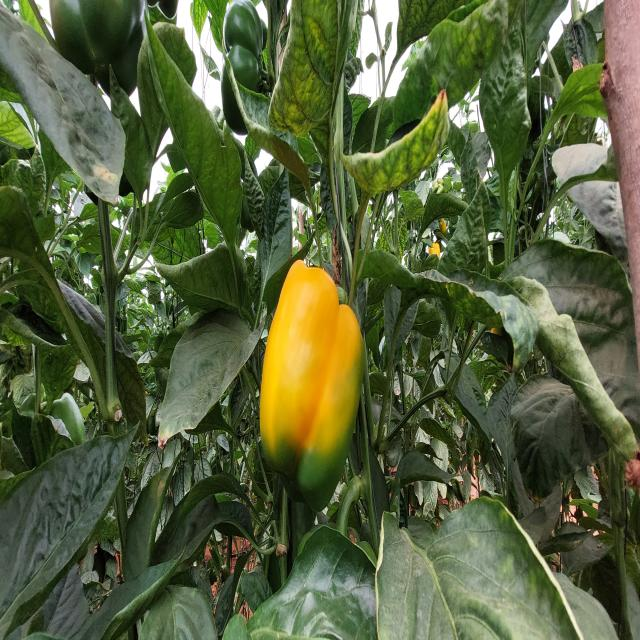Yellow-Ready-to-Harvest: (259, 258, 360, 455)
